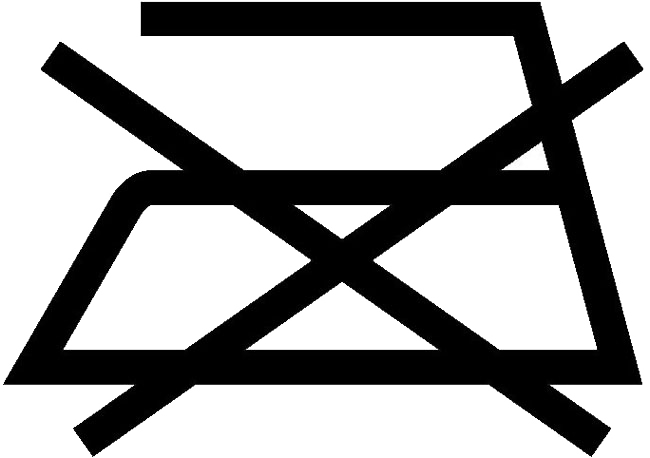do_not_iron: (39, 1, 636, 458)
